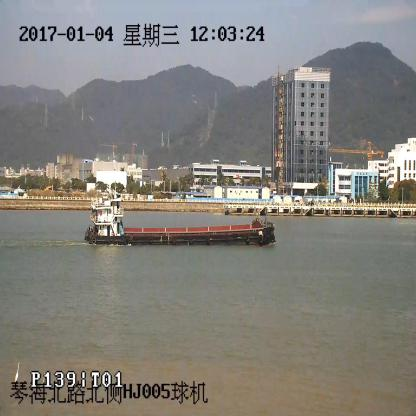Bulk Carrier: (85, 195, 276, 247)
